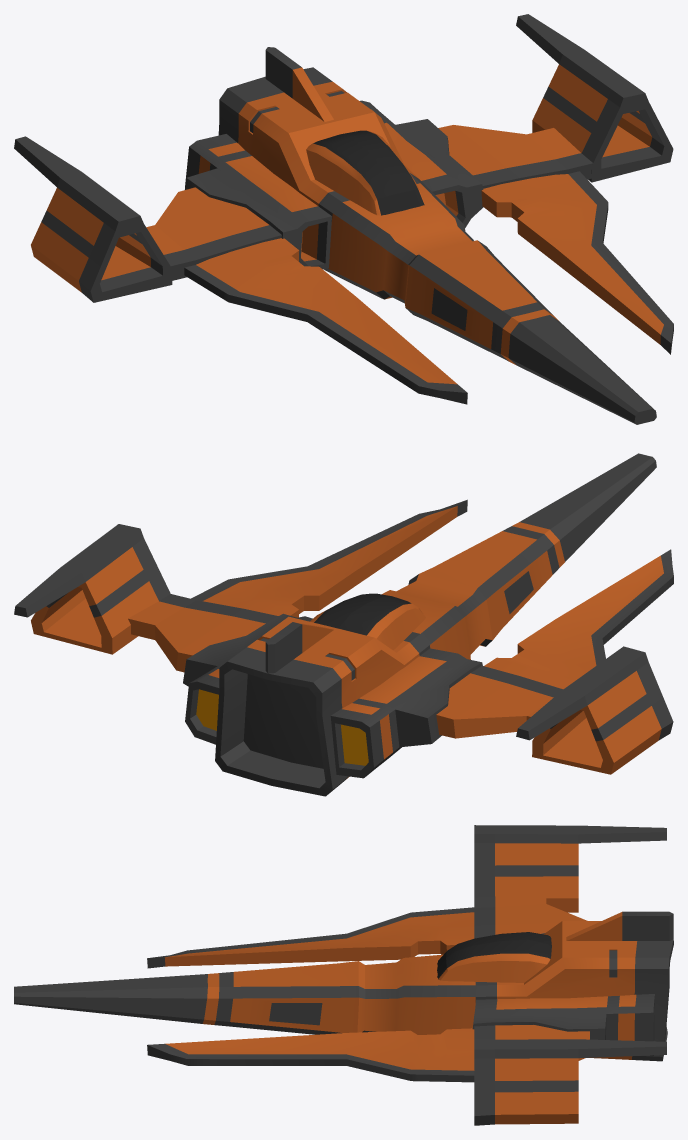
File: Spaceship_RaeTheRedPanda.glb
3 views of the same model, one above another, from view 1: azimuth 30°, elevation 25°; view 2: azimuth 150°, elevation 25°; view 3: azimuth 270°, elevation 25° (orthographic). The views are drawn at different scales.
Visible parts, largest first — view 1: Spaceship_RaeTheRedPanda; view 2: Spaceship_RaeTheRedPanda, Spaceship_RaeTheRedPanda.001; view 3: Spaceship_RaeTheRedPanda.
Boxes of the visible parts, x1,y1,x2,y2 form: Spaceship_RaeTheRedPanda: (14, 14, 673, 424); Spaceship_RaeTheRedPanda: (14, 453, 673, 796); Spaceship_RaeTheRedPanda.001: (196, 689, 368, 765); Spaceship_RaeTheRedPanda: (14, 825, 673, 1125).
Bounding box in the file's own units: 9.95 × 2.35 × 11.17.
2 materials, 1 textured.
